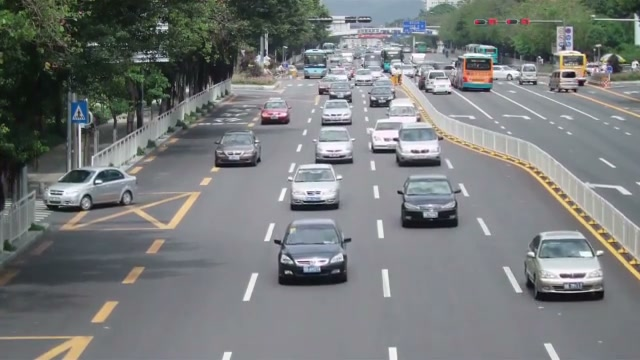bus: (453, 53, 494, 92)
car: (523, 230, 606, 301), (272, 217, 350, 285), (44, 166, 138, 211), (397, 173, 461, 228), (288, 163, 341, 210), (394, 122, 442, 167), (214, 131, 261, 167), (314, 126, 354, 164), (369, 118, 405, 154), (320, 99, 353, 125), (260, 98, 291, 125), (424, 71, 452, 95)
truck: (547, 50, 588, 92), (519, 64, 538, 85)
